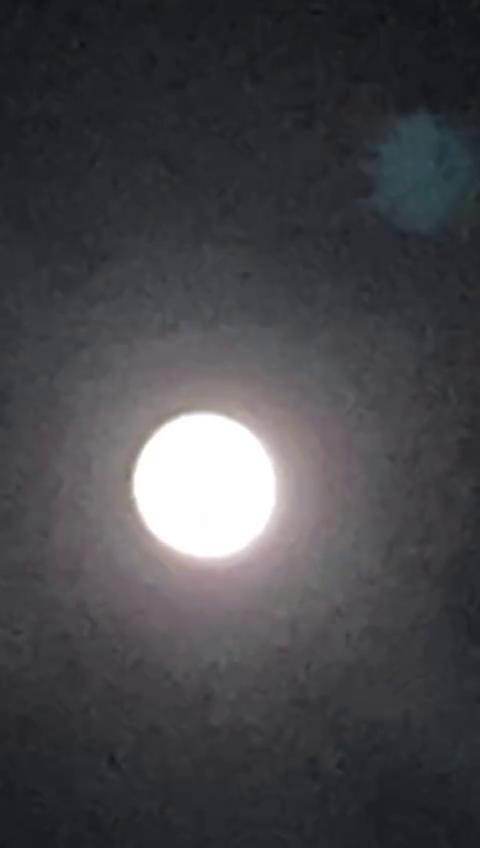moon: (118, 389, 284, 580)
